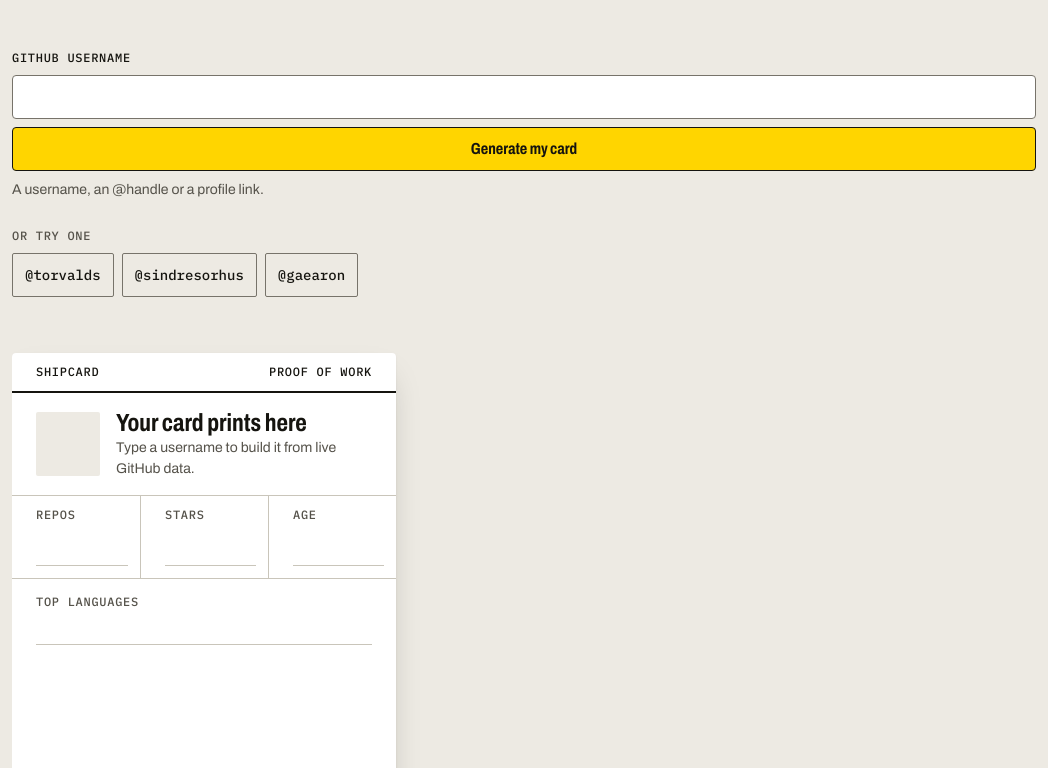
Test: input validation › the error clears as soon as the visitor edits the input
The image size is (1048, 768).
Click the button "Generate my card" at (524, 149), box [12, 127, 1036, 171]
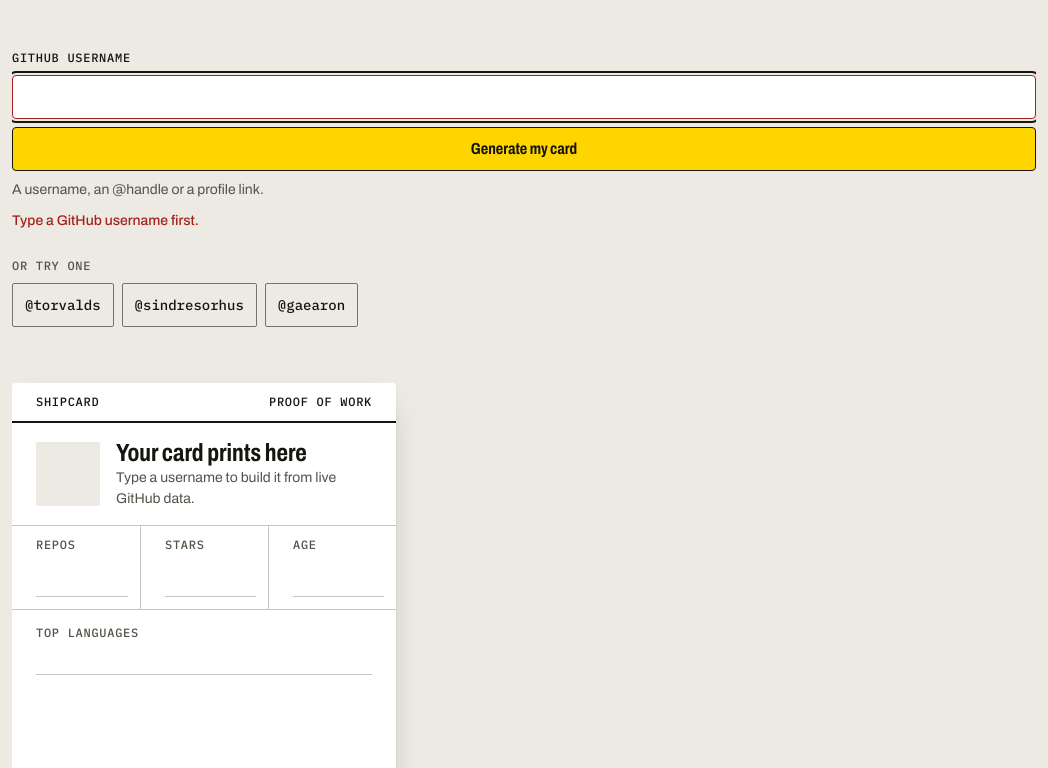
Type "t" into the field labelled "GitHub username" at (524, 97), box [12, 75, 1036, 119]
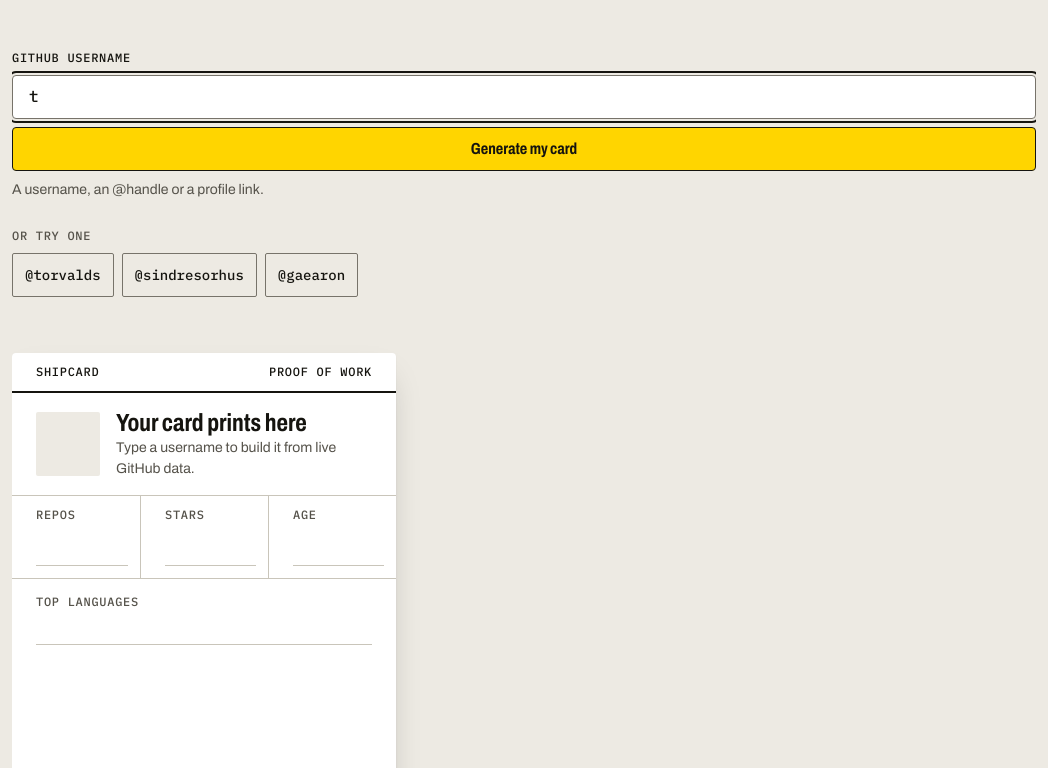
Expected: the field labelled "GitHub username" does not have attribute aria-invalid, [12, 75, 1036, 119]
